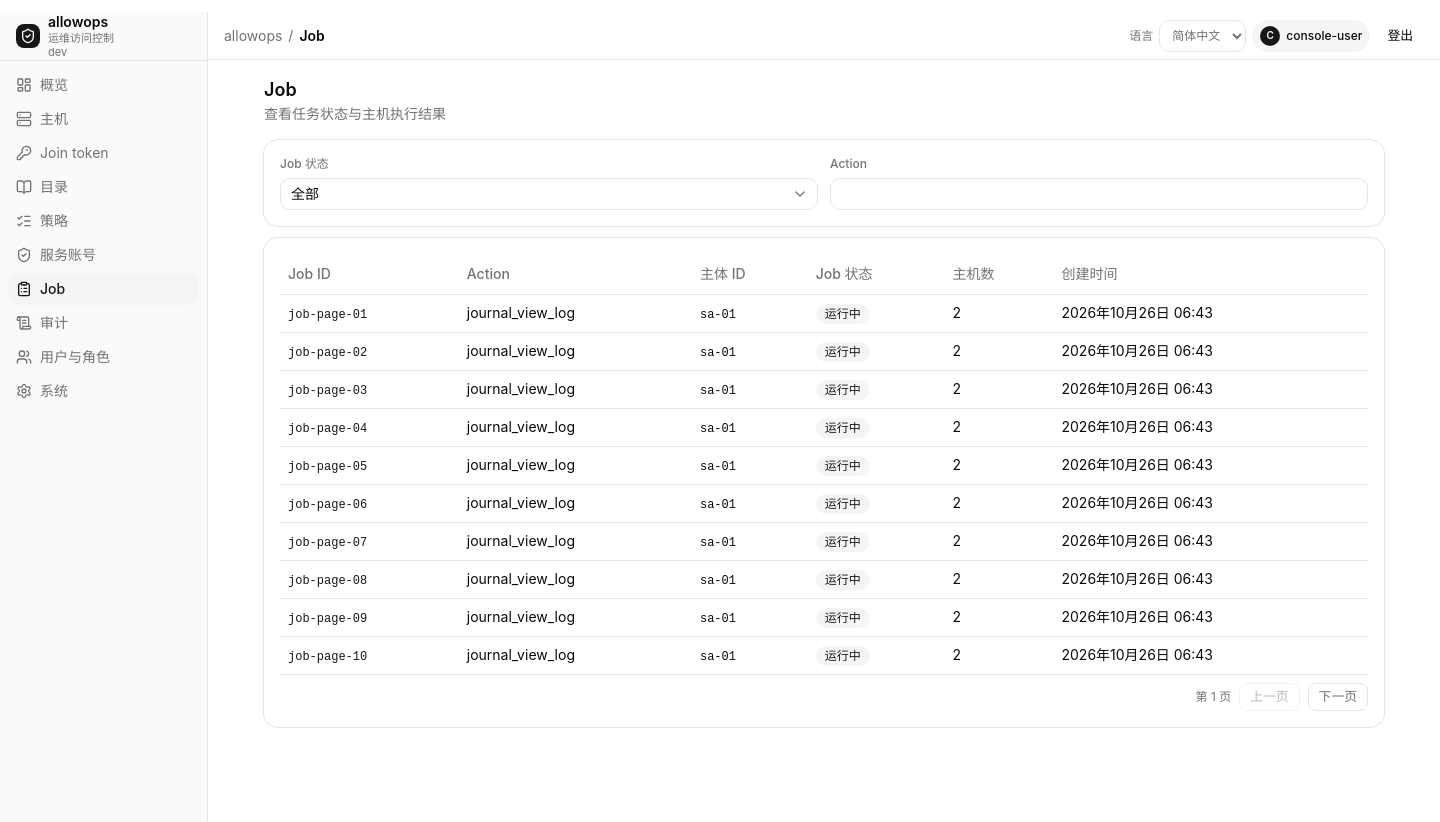
Scenario: jobs list server pagination › returns to the first page when a filter changes
The image size is (1440, 822).
Click the button "下一页".
click(1338, 696)  # box x1=1308 y1=682 x2=1368 y2=710
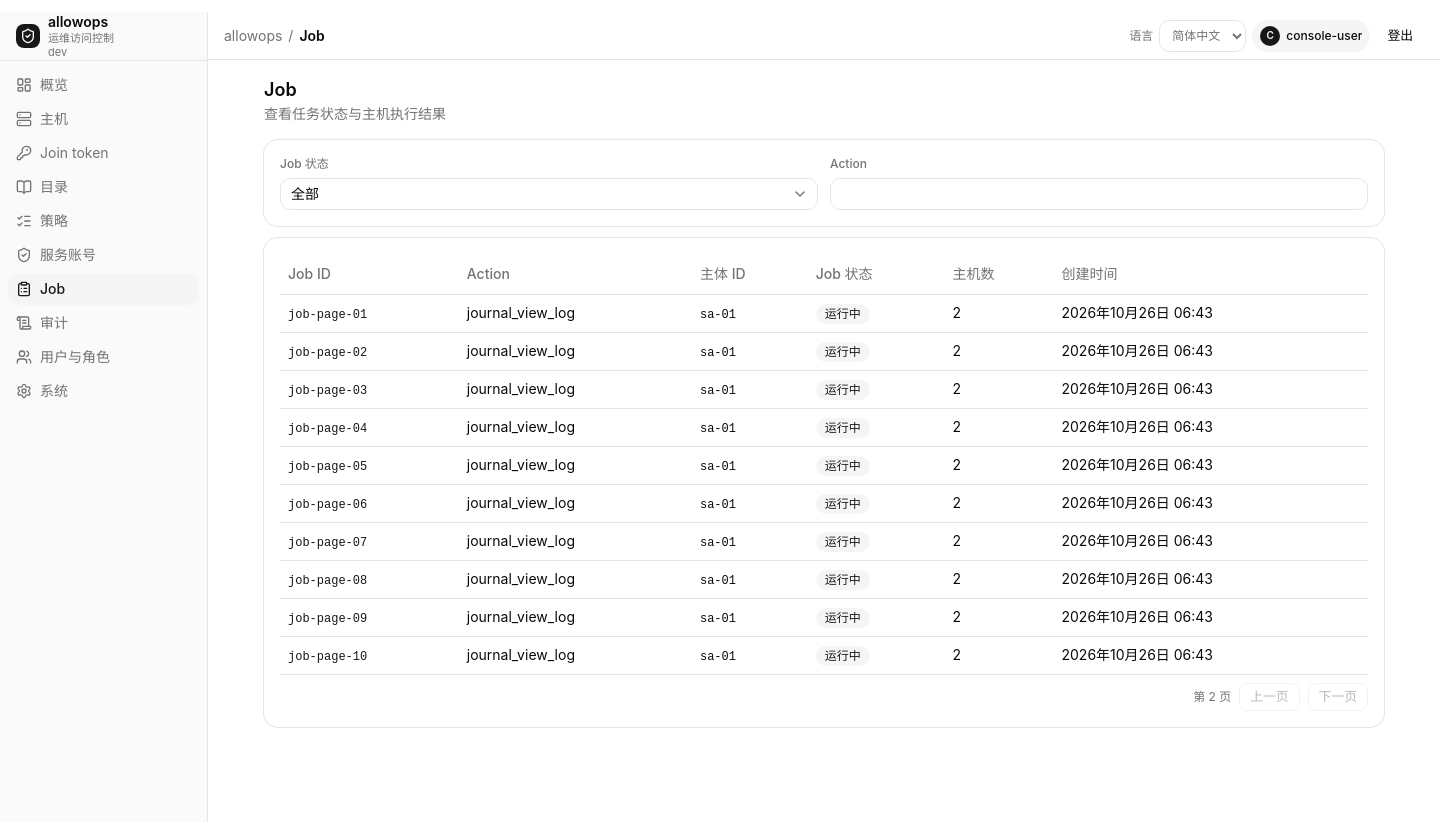
Expected: the text "第 2 页" is shown, x1=1193 y1=688 x2=1231 y2=704
Select "运行中" in the dropdown labelled "Job 状态" at x=549, y=194, box x1=280 y1=178 x2=818 y2=210
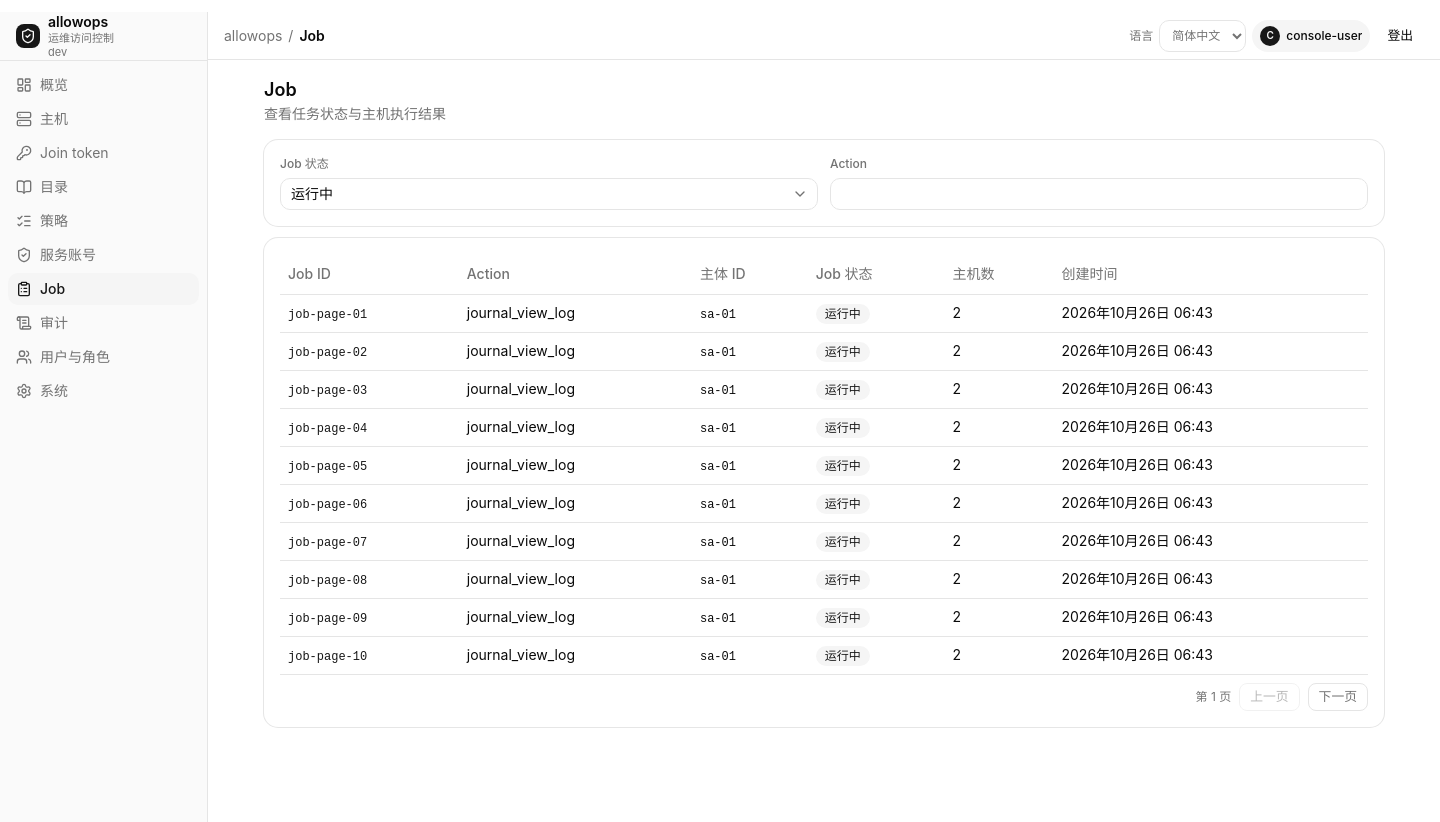
Expected: the text "第 1 页" is shown, x1=1196 y1=688 x2=1231 y2=704
